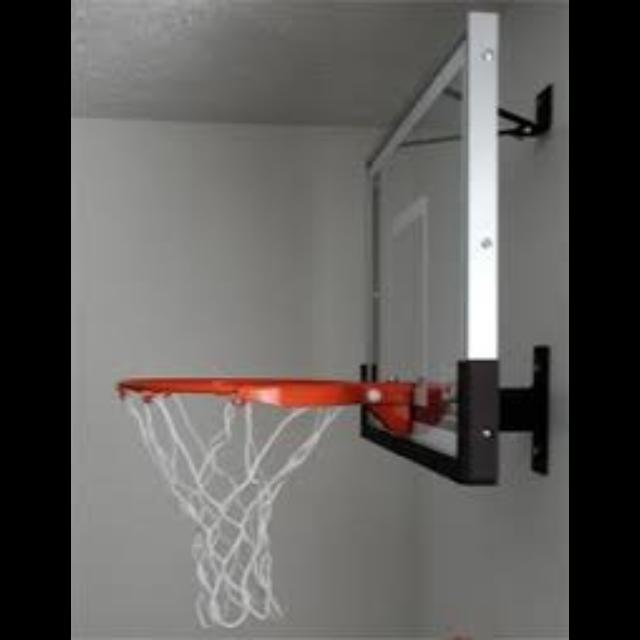rim: (118, 376, 360, 626)
